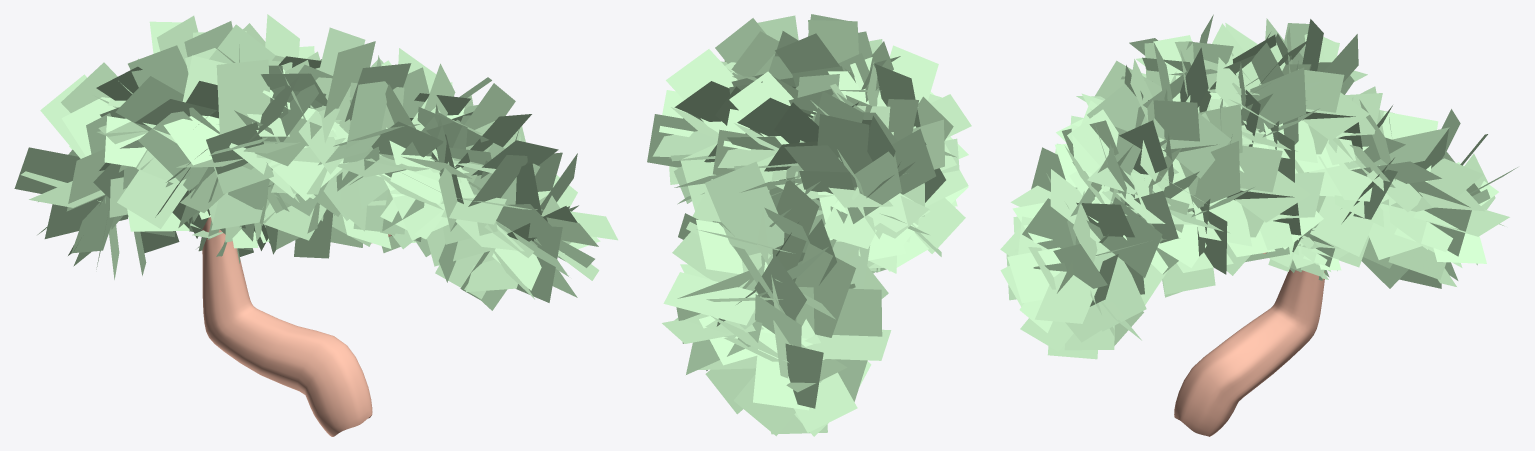
Rendered from tree_04.fbx.
3 views of the same model, side by side, from view 1: azimuth 30°, elevation 25°; view 2: azimuth 150°, elevation 25°; view 3: azimuth 270°, elevation 25° (orthographic). The views are drawn at different scales.
Visible parts, largest first — view 1: Tree_04; view 2: Tree_04; view 3: Tree_04.
Part boxes in pixels (x1=…): Tree_04: x1=14, y1=14, x2=617, y2=436; Tree_04: x1=647, y1=14, x2=971, y2=436; Tree_04: x1=1000, y1=14, x2=1517, y2=436.
Size of the model in its own units: 738 by 730 by 900.
